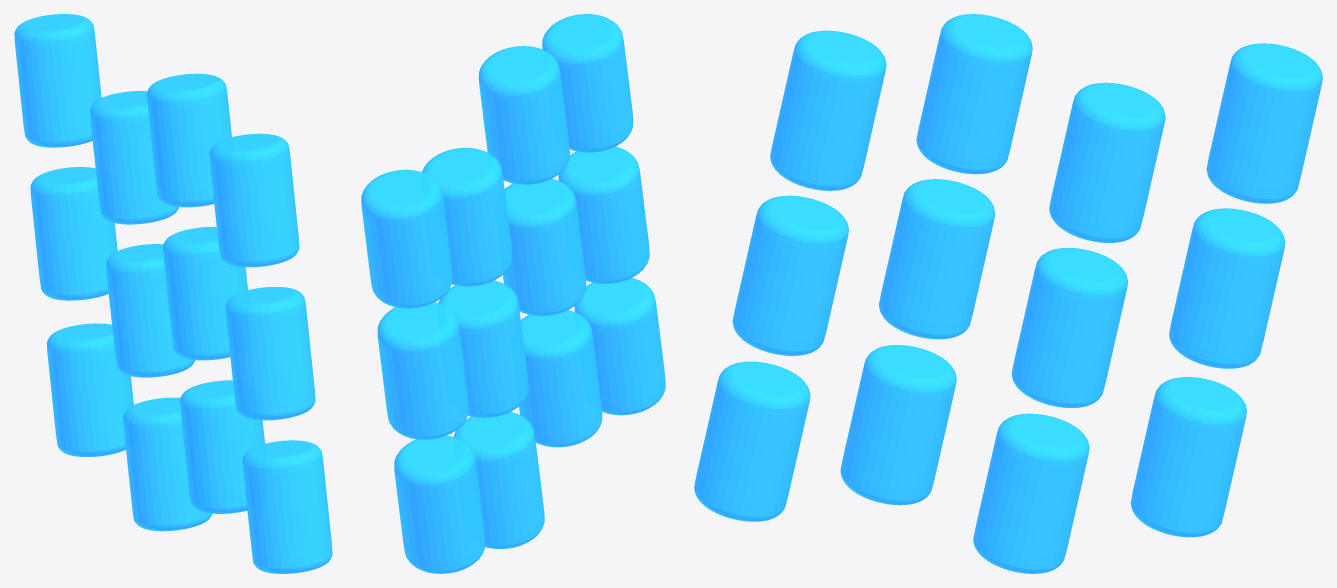
Rendered from rainDraco.gltf.
3 renders of one model, left to right at view 1: azimuth 30°, elevation 25°; view 2: azimuth 150°, elevation 25°; view 3: azimuth 270°, elevation 25°, orthographic. The views are drawn at different scales.
Visible parts, largest first — view 1: Cylinder.1022, Cylinder.1021, Cylinder.1019; view 2: Cylinder.1022, Cylinder.1021, Cylinder.1019; view 3: Cylinder.1022, Cylinder.1021, Cylinder.1019.
Boxes of the visible parts, x1=… form: Cylinder.1022: x1=90, y1=73, x2=315, y2=420; Cylinder.1021: x1=14, y1=14, x2=133, y2=456; Cylinder.1019: x1=123, y1=380, x2=332, y2=573; Cylinder.1022: x1=422, y1=14, x2=649, y2=417; Cylinder.1021: x1=361, y1=169, x2=485, y2=573; Cylinder.1019: x1=454, y1=278, x2=665, y2=549; Cylinder.1022: x1=732, y1=14, x2=1165, y2=407; Cylinder.1021: x1=1130, y1=43, x2=1322, y2=537; Cylinder.1019: x1=694, y1=345, x2=1089, y2=573.
Bounding box in the file's own units: 0.5835 × 3.25 × 3.44.
